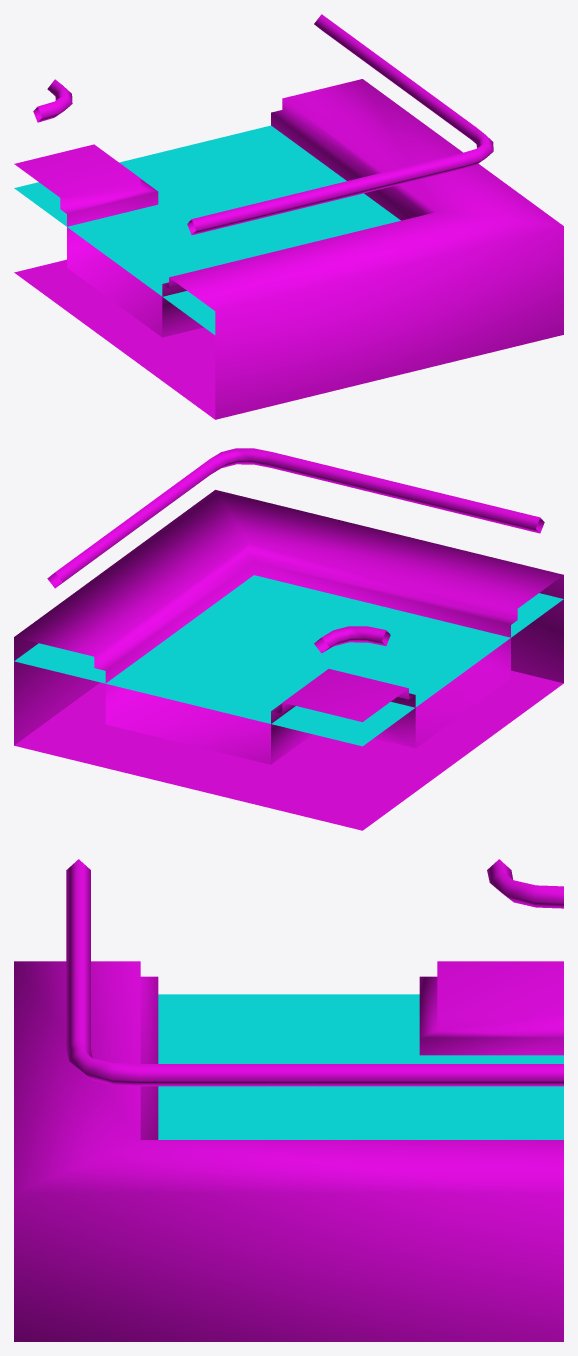
Rendered from LPiece.fbx.
3 views of the same model, one above another, from view 1: azimuth 30°, elevation 25°; view 2: azimuth 150°, elevation 25°; view 3: azimuth 270°, elevation 25° (orthographic). The views are drawn at different scales.
Parts seen in each view (by area): view 1: LPiece_geo; view 2: LPiece_geo; view 3: LPiece_geo.
Boxes of the visible parts, x1,y1,x2,y2 form: LPiece_geo: [14, 14, 563, 419]; LPiece_geo: [14, 448, 563, 830]; LPiece_geo: [14, 859, 563, 1341].
Bounding box in the file's own units: 171 × 85.93 × 171.
